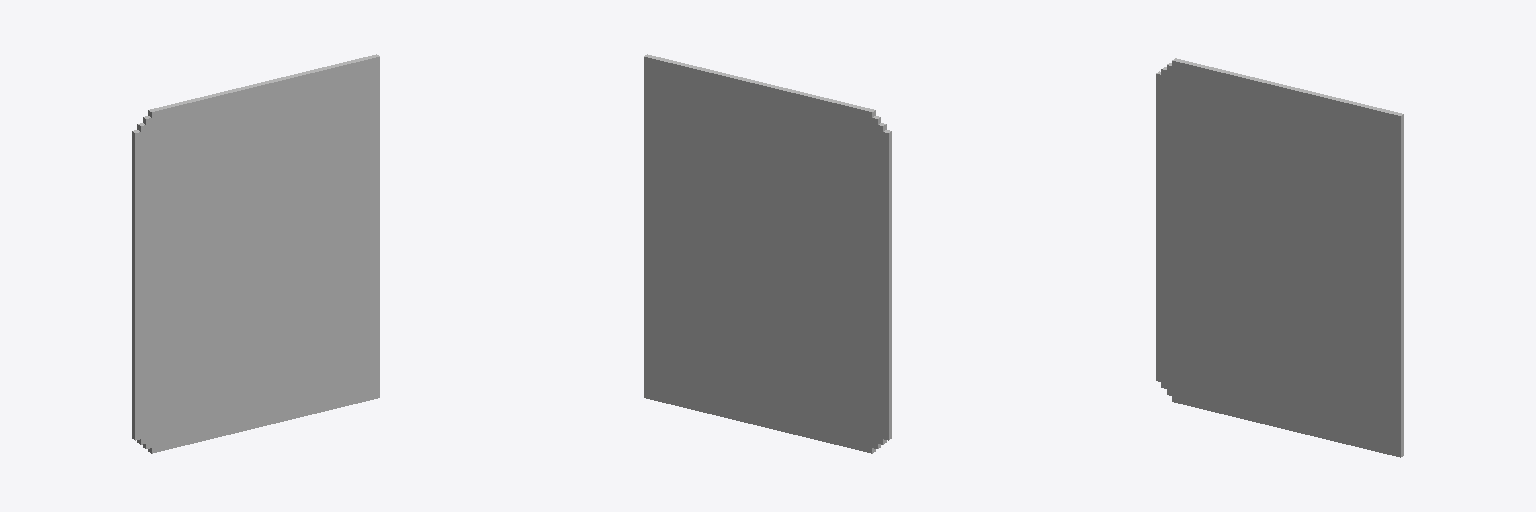
Rendered from Mirro__bath1.mtl.obj.
The picture shows the model from 3 angles: view 1: azimuth 30°, elevation 25°; view 2: azimuth 150°, elevation 25°; view 3: azimuth 330°, elevation 25°; orthographic projection.
Parts seen in each view (by area): view 1: Mirro__bath1.mtl; view 2: Mirro__bath1.mtl; view 3: Mirro__bath1.mtl.
Boxes of the visible parts, x1,y1,x2,y2 form: Mirro__bath1.mtl: [132, 54, 379, 453]; Mirro__bath1.mtl: [644, 54, 891, 453]; Mirro__bath1.mtl: [1156, 58, 1403, 457].
Size of the model in its own units: 45 by 60 by 1.